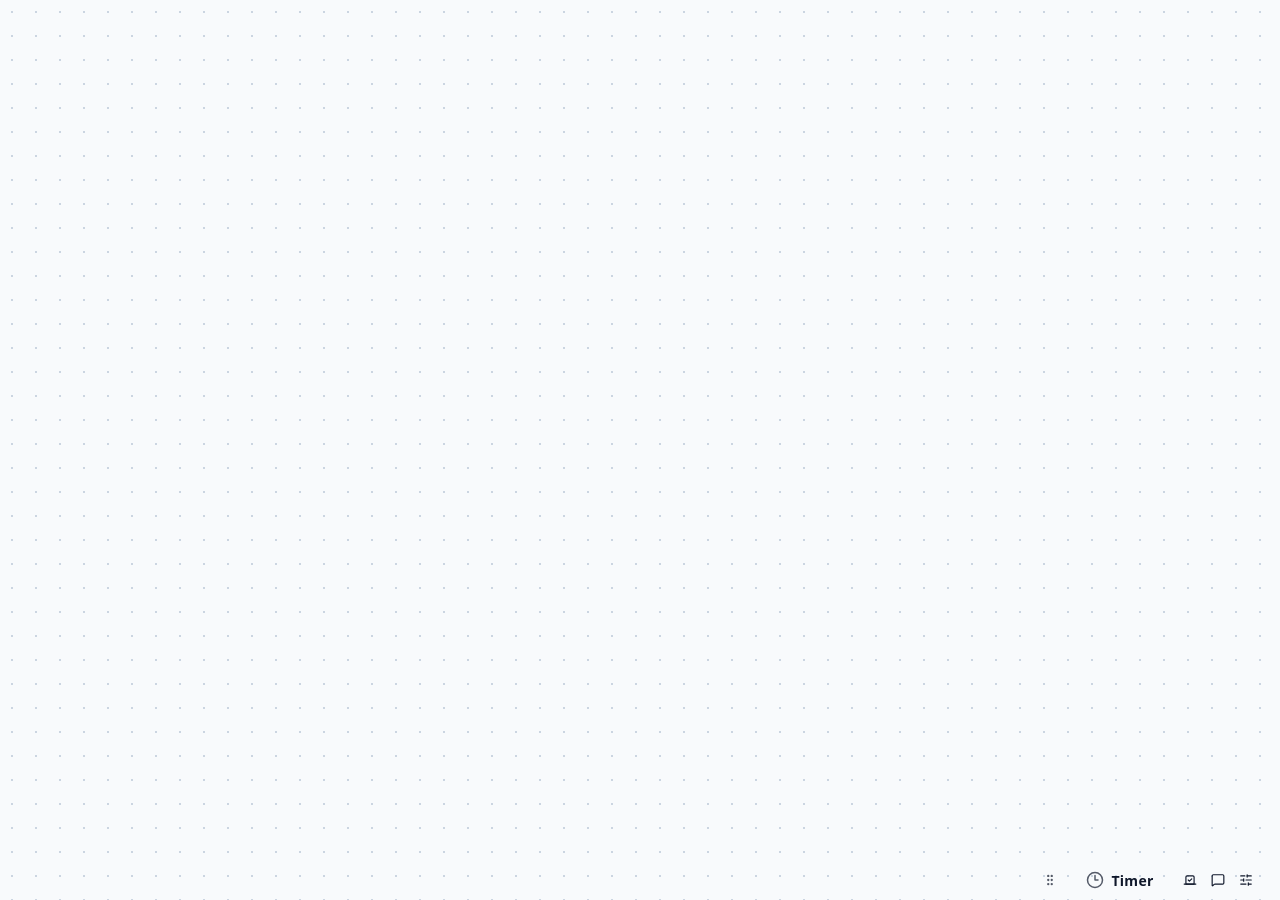
Test case: WorkshopTimerCorner as a feature-registry consumer › unchecking a feature in the customize list removes its inline button and persists the choice
The image size is (1280, 900).
Click the button with test id "feature-toolbar-menu-trigger": point(1246, 880) [1232,864,1260,896]
(page scrolled)
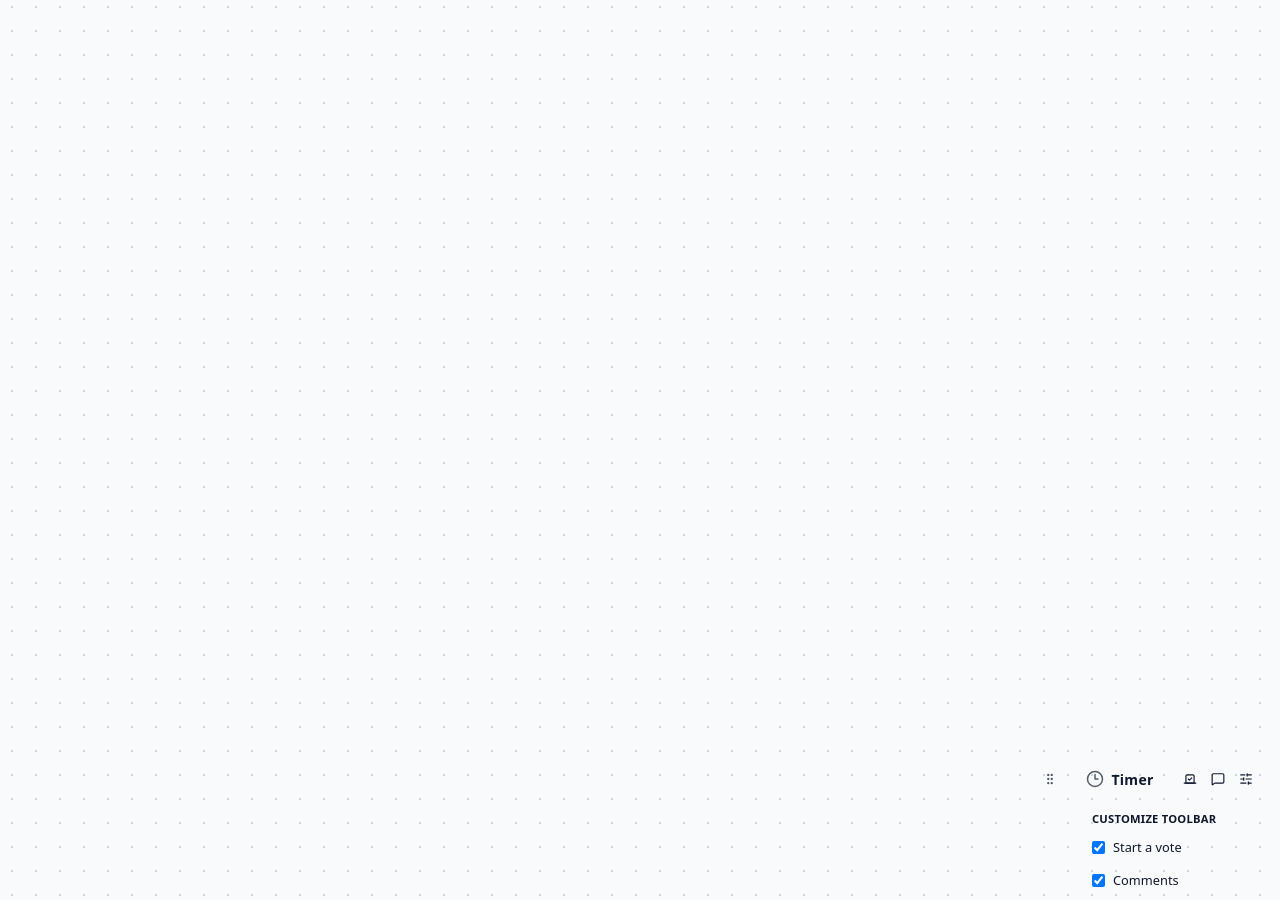
Result: the checkbox with test id "feature-toolbar-toggle-comments" is checked
Click the checkbox with test id "feature-toolbar-toggle-comments": point(1098, 881) [1092,874,1105,887]
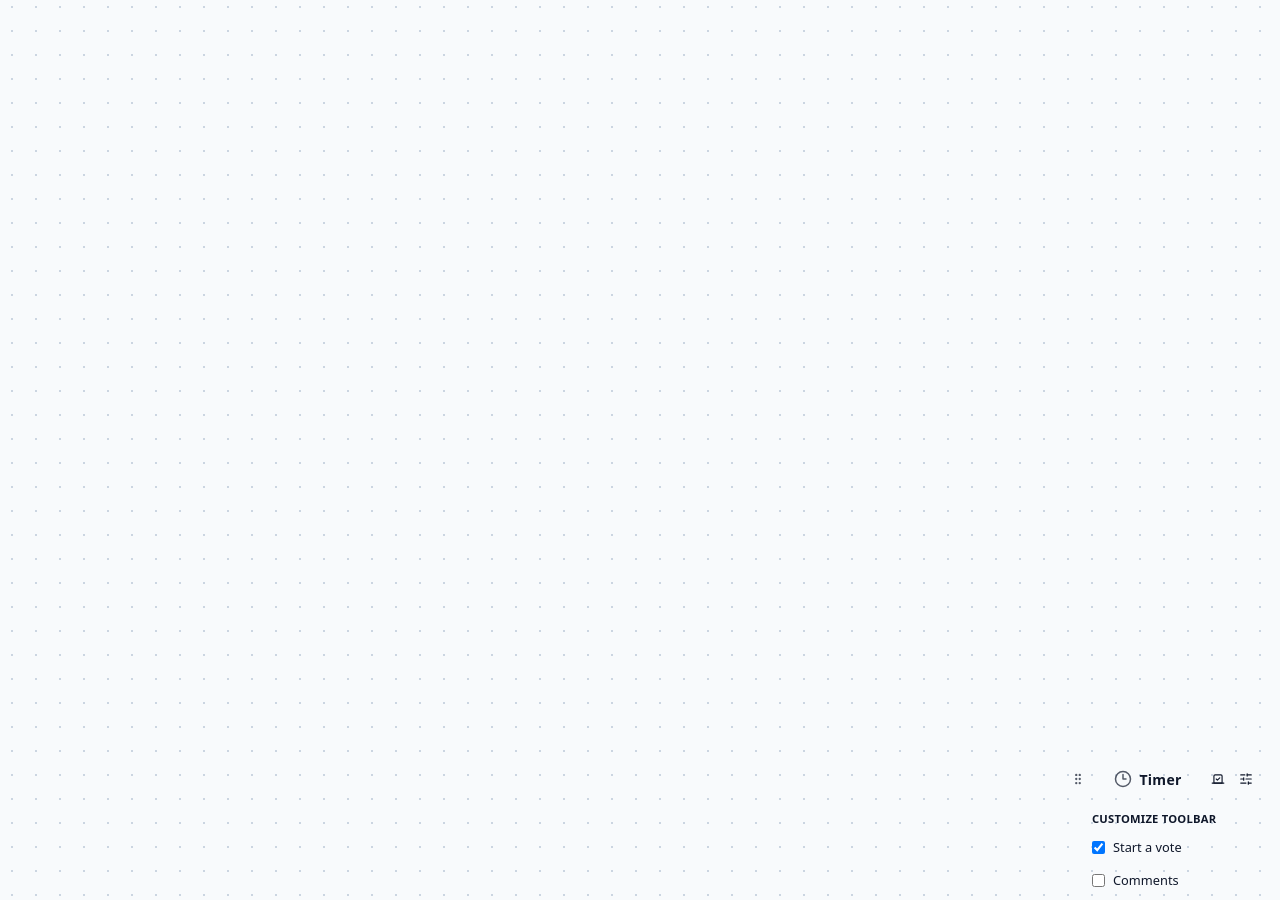
Result: the button with test id "feature-toolbar-button-comments" is gone
